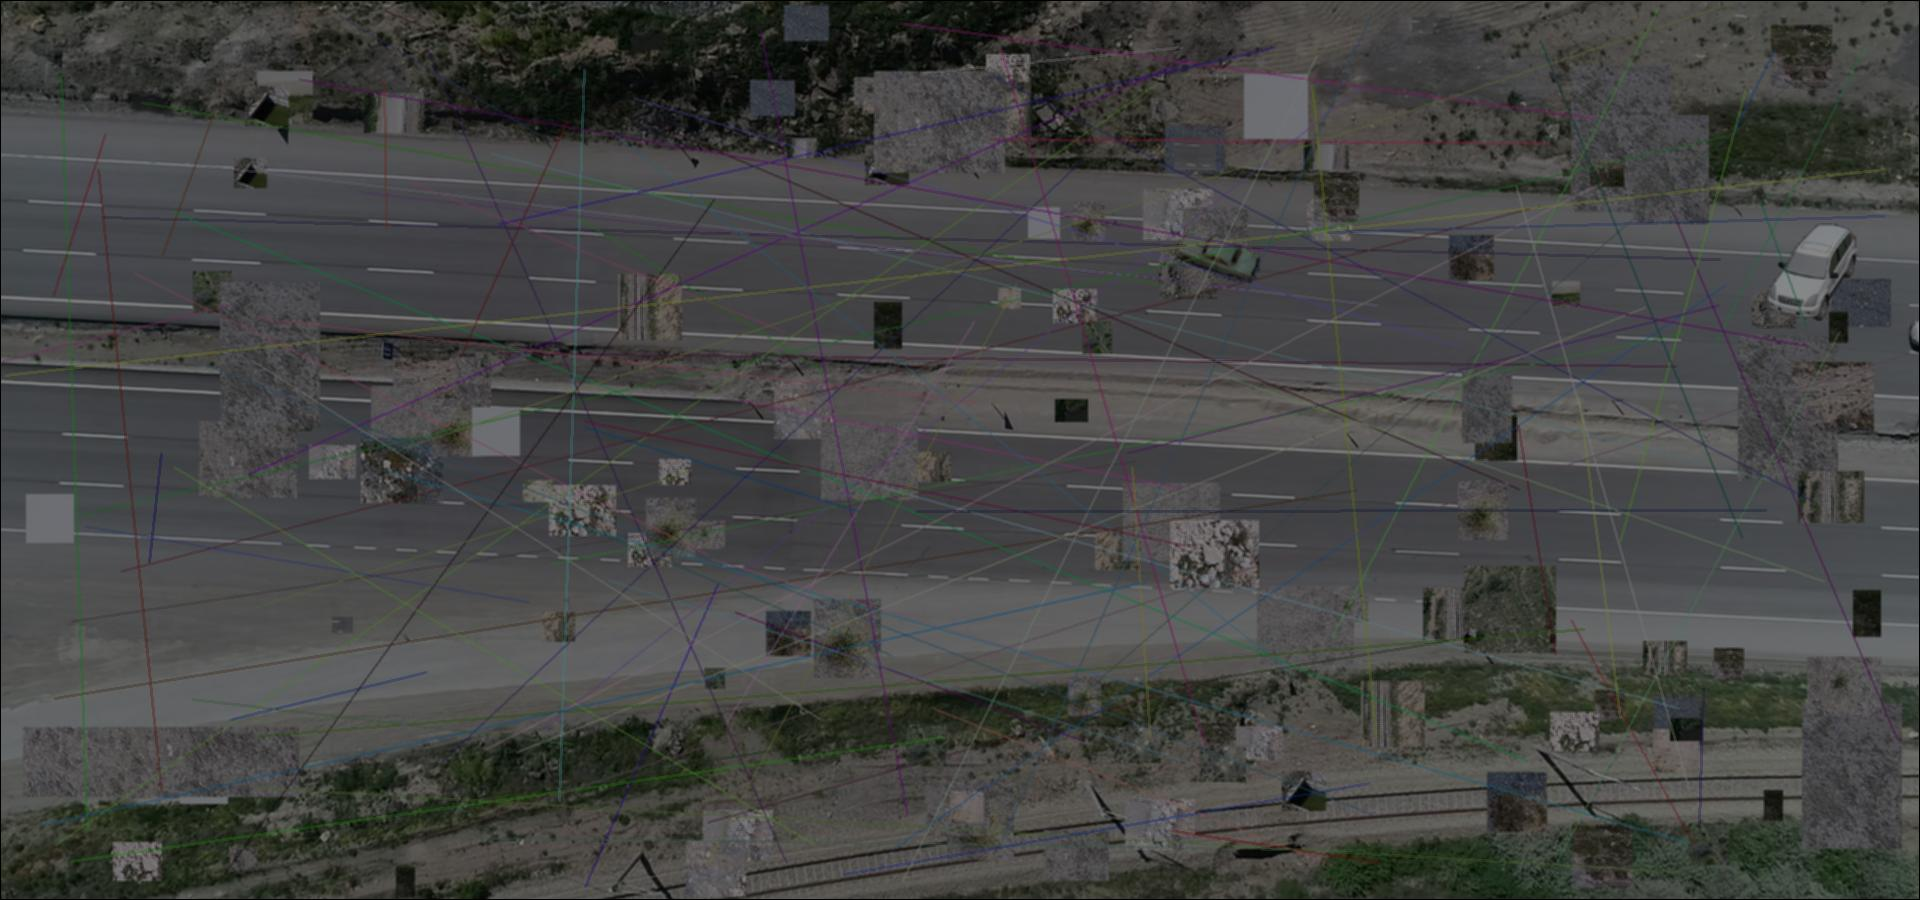arac: (1761, 220, 1864, 329), (1172, 227, 1262, 284)
